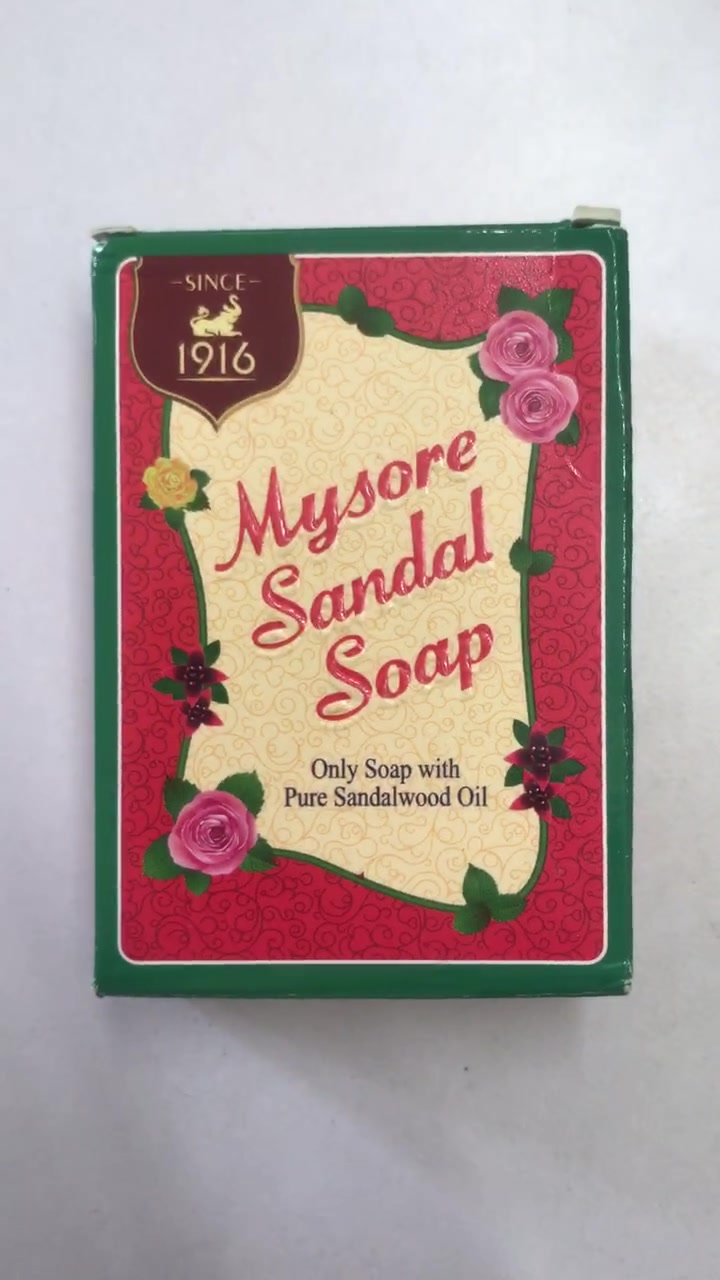mysore sandal soap: (85, 224, 631, 988)
